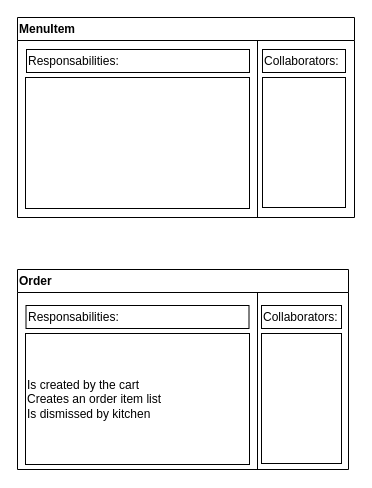
This 372x488 diagram has some shape labels left out. The centre of each missing label's shape, as x and y in pixels:
Cart OrderItem Kitchen: (301,398)
Expose Item's name, price, desc and stock Accept modifiers: (137,142)
StockManager: (304,142)
